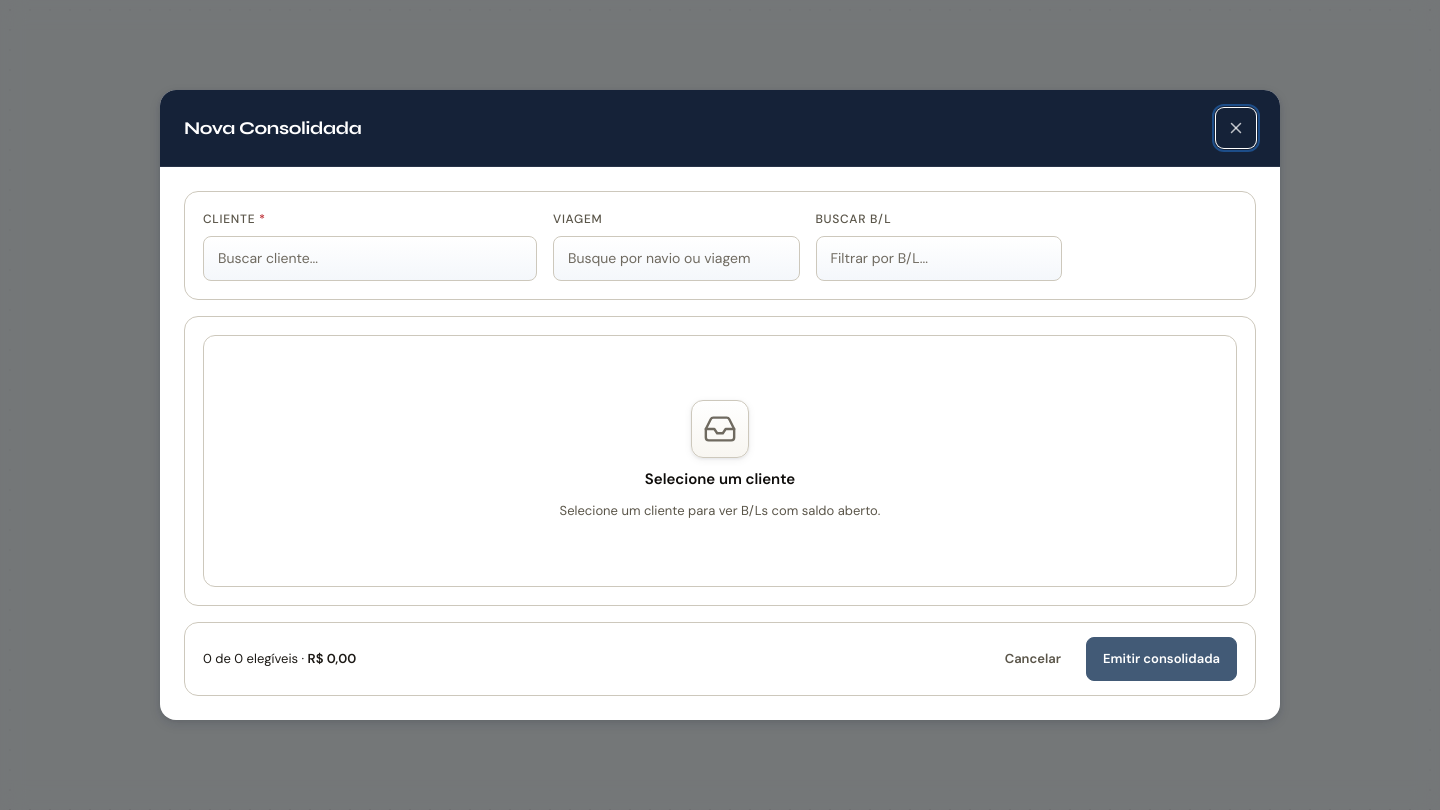
Scenario: ConsolidatedInvoiceModal — seletor de cliente › limpa o cliente pelo botao x
Click the dropdown with placeholder "Buscar cliente...": click(370, 259) x1=203 y1=236 x2=537 y2=281
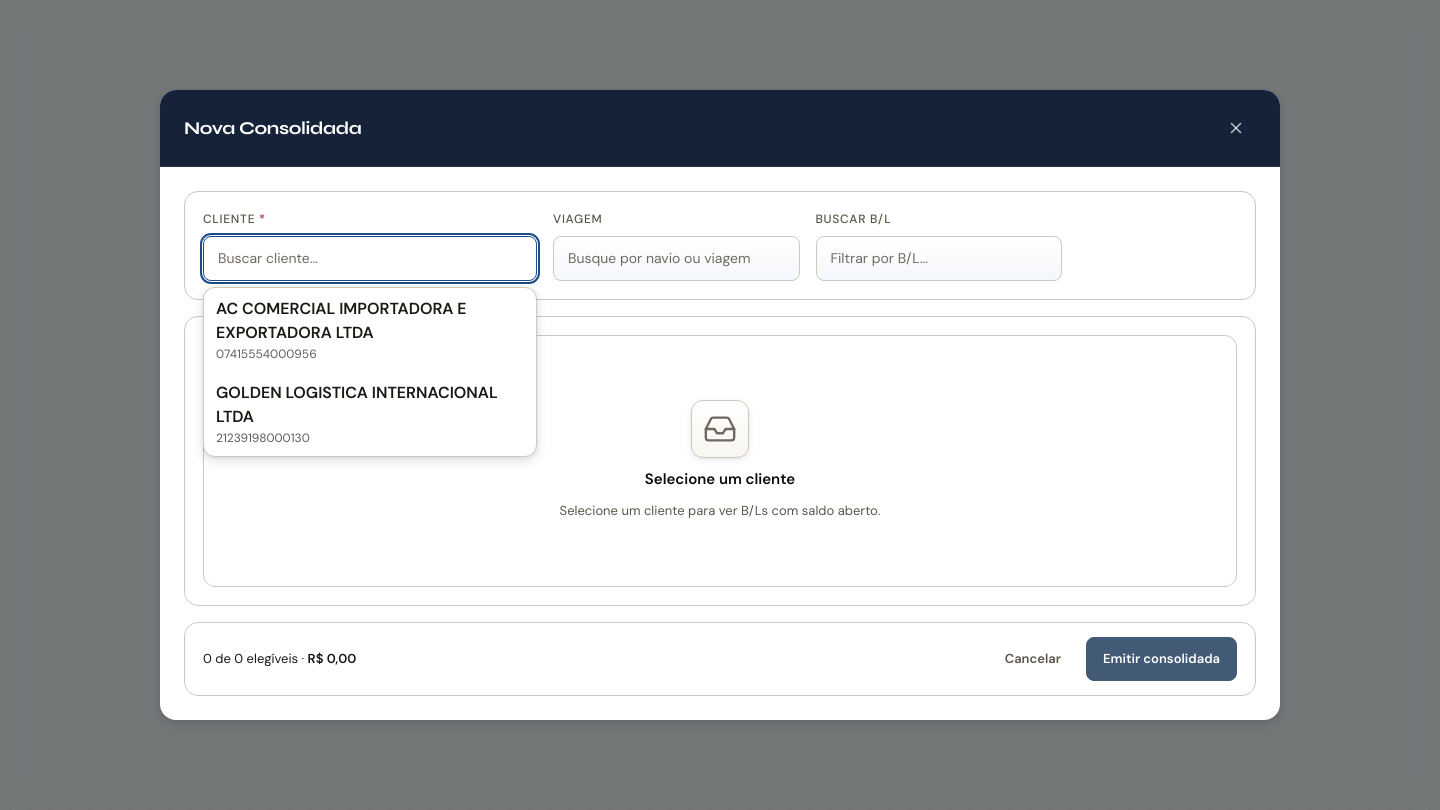
Click the text "GOLDEN LOGISTICA INTERNACIONAL LTDA": click(370, 405) x1=216 y1=381 x2=524 y2=429
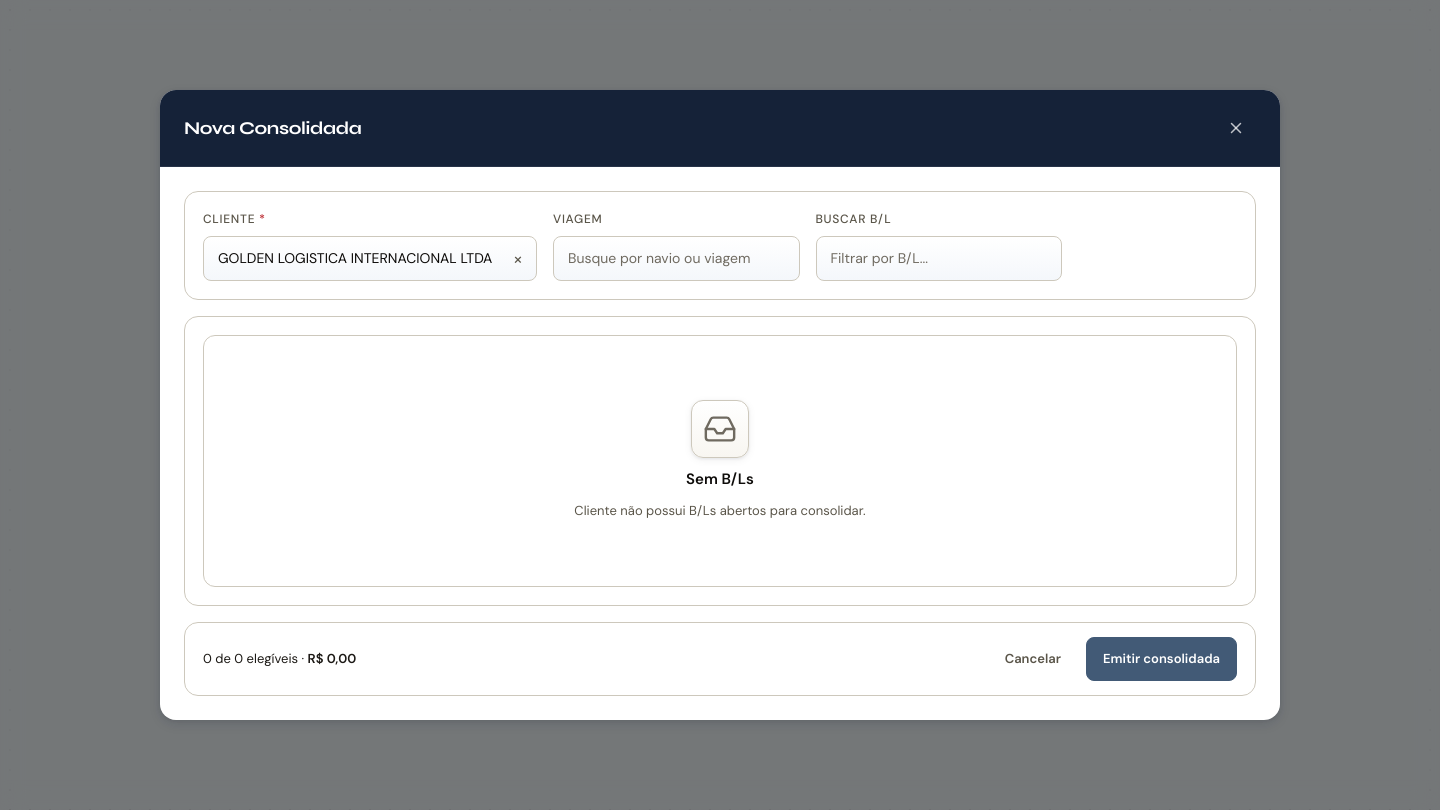
expect the dropdown with placeholder "Buscar cliente..." holds "GOLDEN LOGISTICA INTERNACIONAL LTDA": met, box x1=203 y1=236 x2=537 y2=281
Click the button named "Limpar cliente": click(518, 259) x1=507 y1=248 x2=529 y2=270
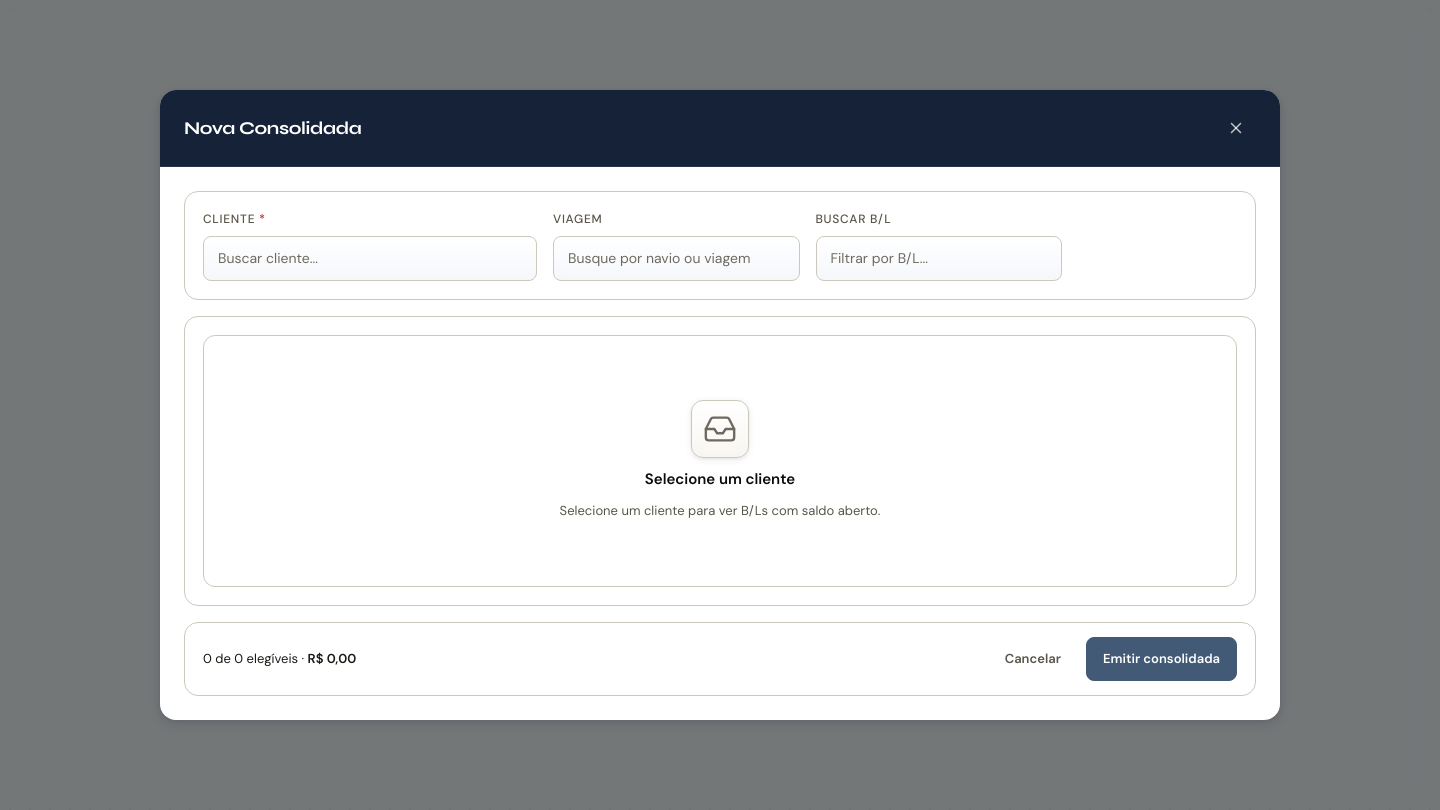
expect the dropdown with placeholder "Buscar cliente..." is empty: met, box x1=203 y1=236 x2=537 y2=281
